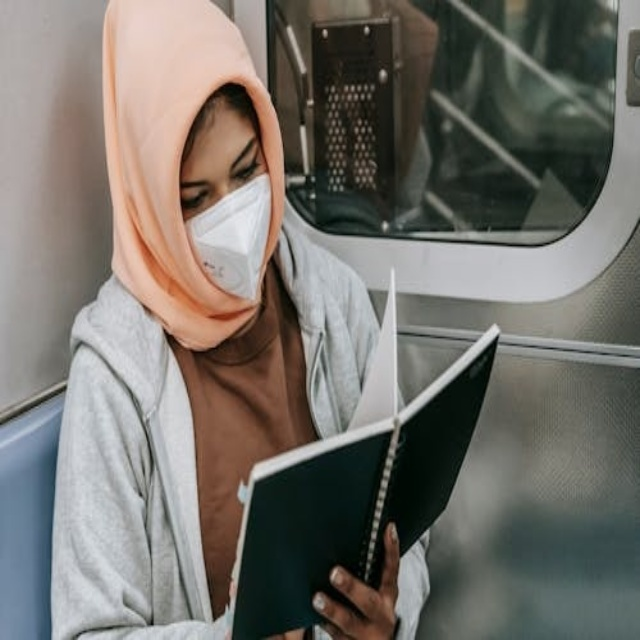Mascara: (184, 167, 273, 302)
Sin_gafas: (173, 123, 273, 211)
Sin_guantes: (313, 524, 404, 640)
